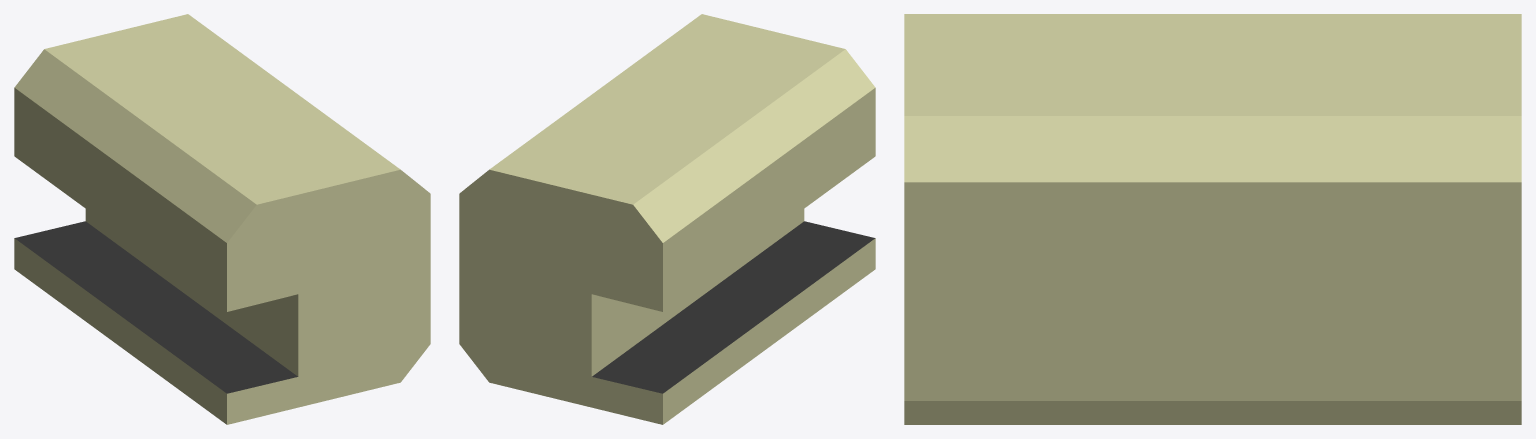
File: Coffemashine.fbx
The picture shows the model from 3 angles, left to right: view 1: azimuth 30°, elevation 25°; view 2: azimuth 150°, elevation 25°; view 3: azimuth 270°, elevation 25°; orthographic projection. The views are drawn at different scales.
Parts seen in each view (by area): view 1: Coffemashine.001; view 2: Coffemashine.001; view 3: Coffemashine.001.
Boxes of the visible parts, x1,y1,x2,y2 form: Coffemashine.001: (14, 14, 430, 424); Coffemashine.001: (459, 14, 875, 424); Coffemashine.001: (904, 14, 1521, 424).
Bounding box in the file's own units: 0.5415 × 0.5415 × 0.9801.
